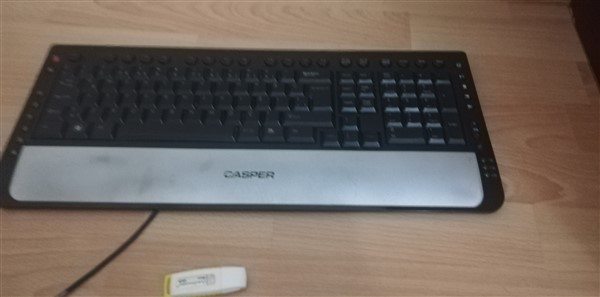flash disk: (161, 264, 251, 297)
klavye: (1, 35, 508, 216)
